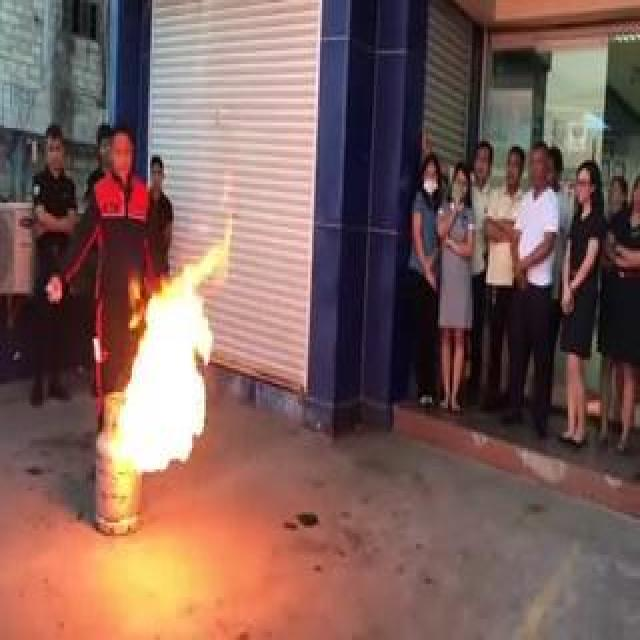Smoke: (51, 260, 151, 476)
